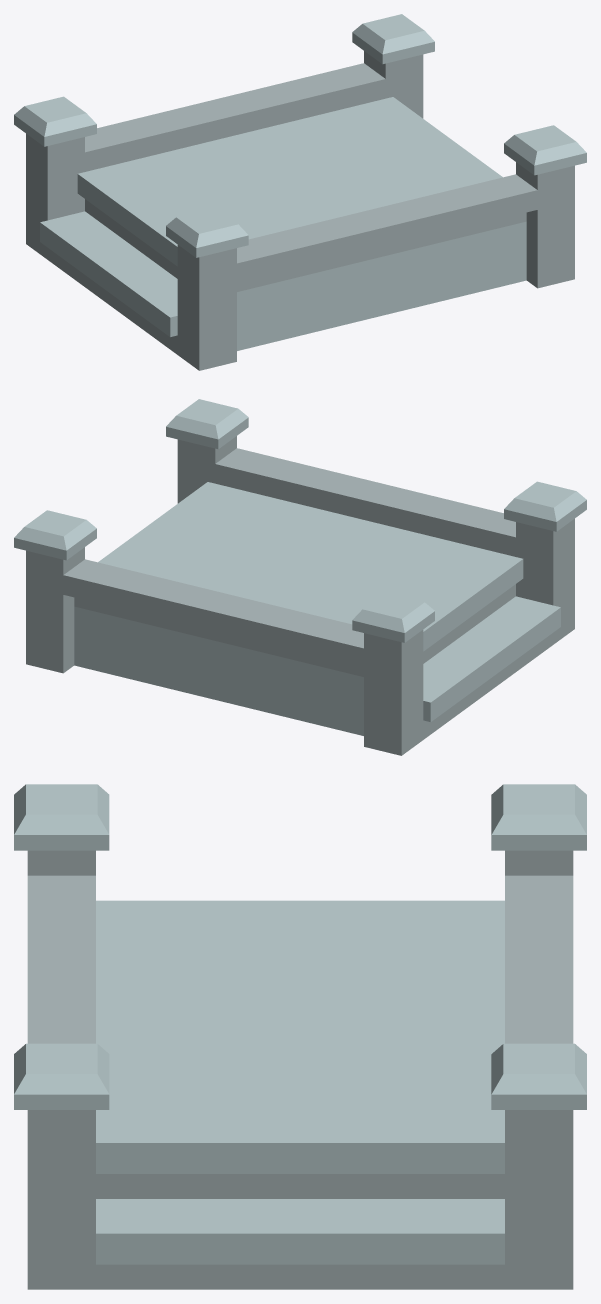
Rendered from bridge_stoneNarrow.glb.
3 views of the same model, one above another, from view 1: azimuth 30°, elevation 25°; view 2: azimuth 150°, elevation 25°; view 3: azimuth 270°, elevation 25° (orthographic). The views are drawn at different scales.
Parts seen in each view (by area): view 1: bridge_stoneNarrow; view 2: bridge_stoneNarrow; view 3: bridge_stoneNarrow.
Part boxes in pixels (box(x1,y1,x2,y2)): bridge_stoneNarrow: box(14, 14, 586, 370); bridge_stoneNarrow: box(14, 399, 586, 755); bridge_stoneNarrow: box(14, 784, 586, 1289).
Bounding box in the file's own units: 1.04 × 0.35 × 0.84.
